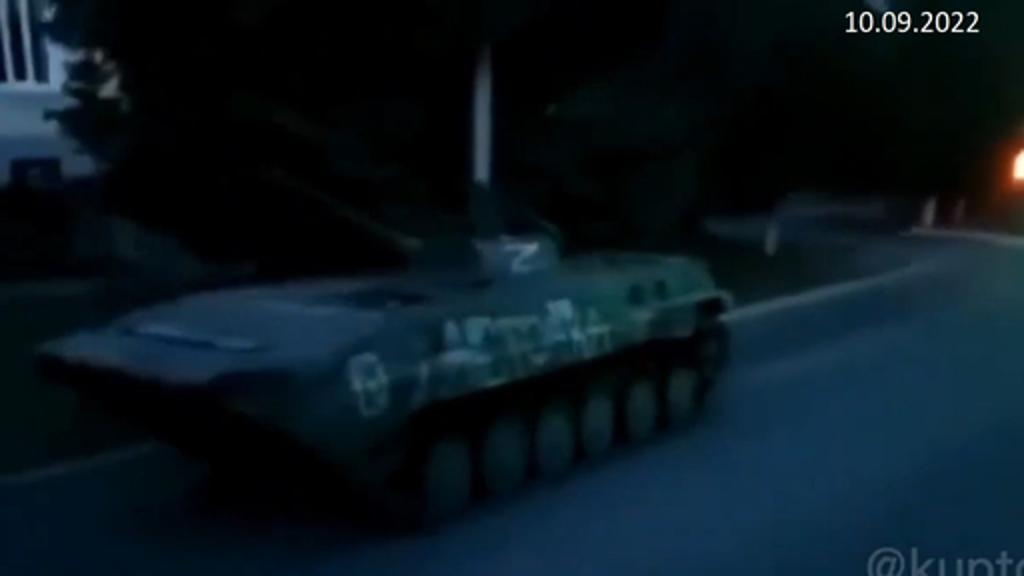APC-IFV: (28, 202, 740, 532)
